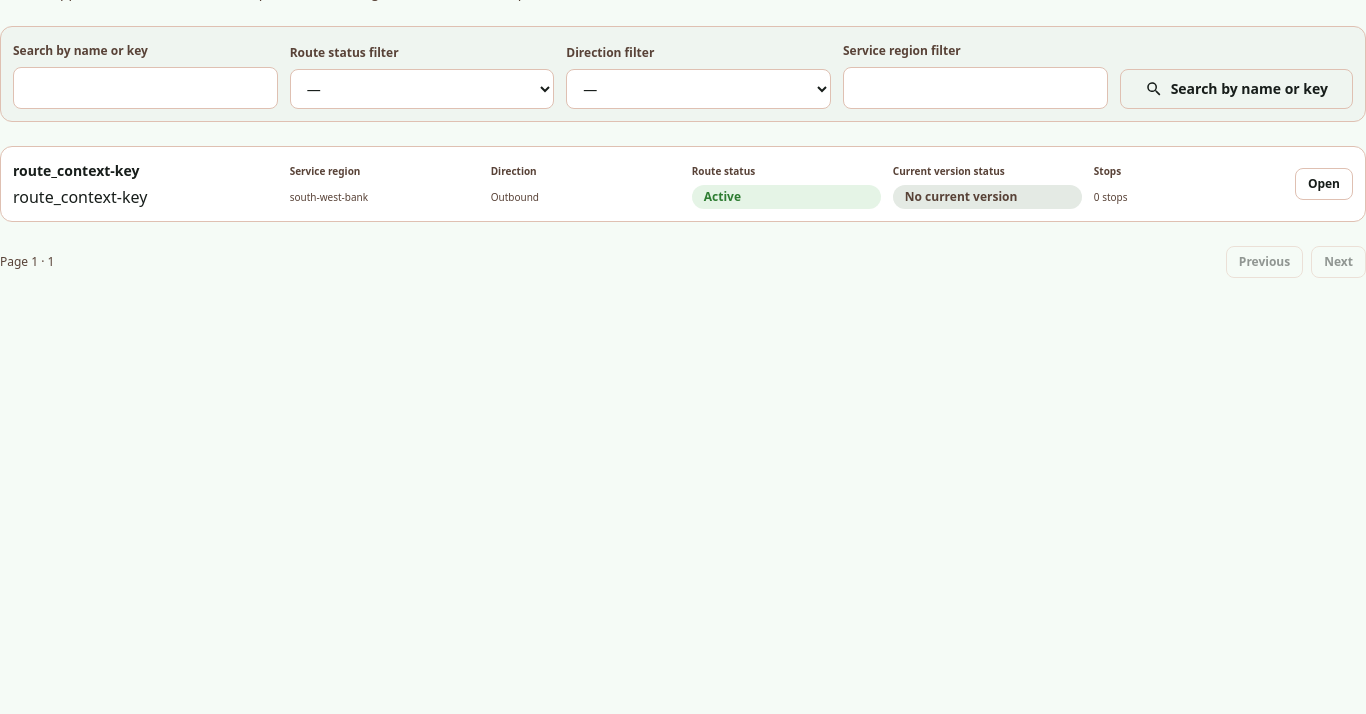
Test case: admin route management › draft save failure stays in the hand-selected version-editor feedback scope
Click the button "Open" at (1324, 184), box 1295,168 -> 1353,200
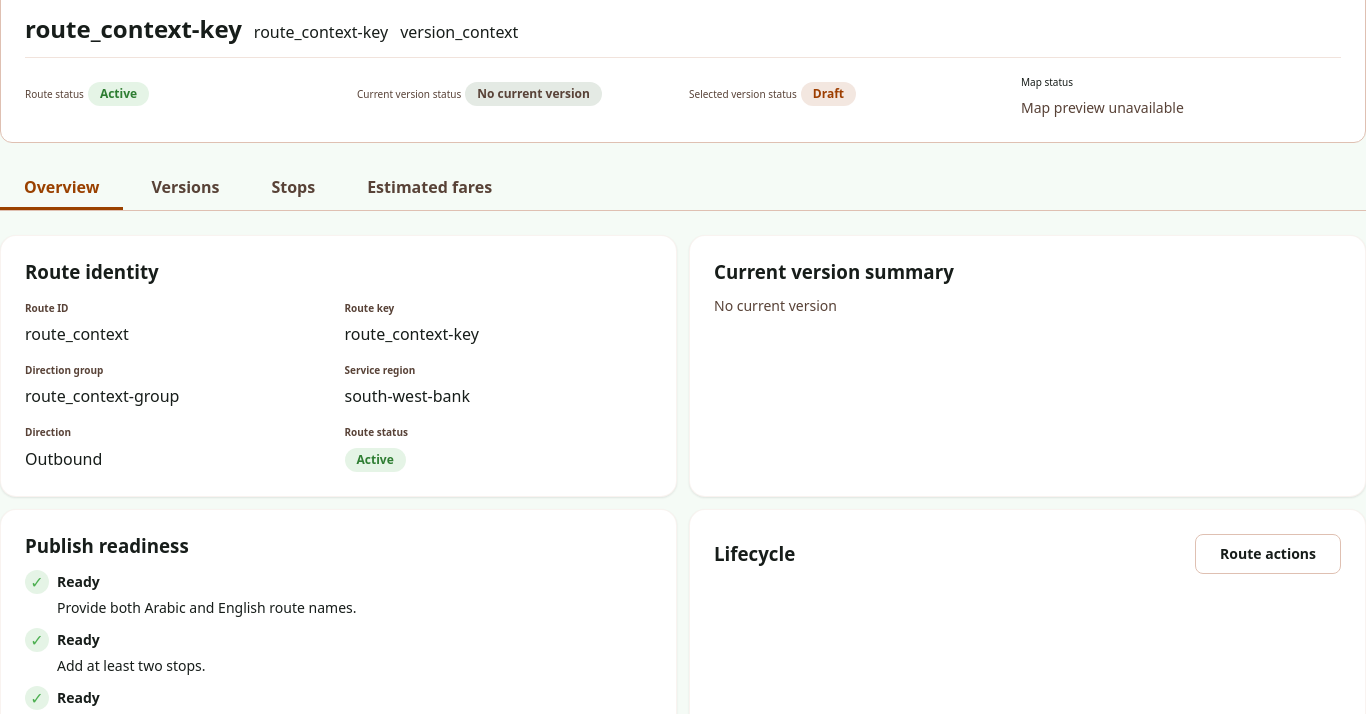
Click the tab "Versions" at (185, 188), box 127,167 -> 243,210
(page scrolled)
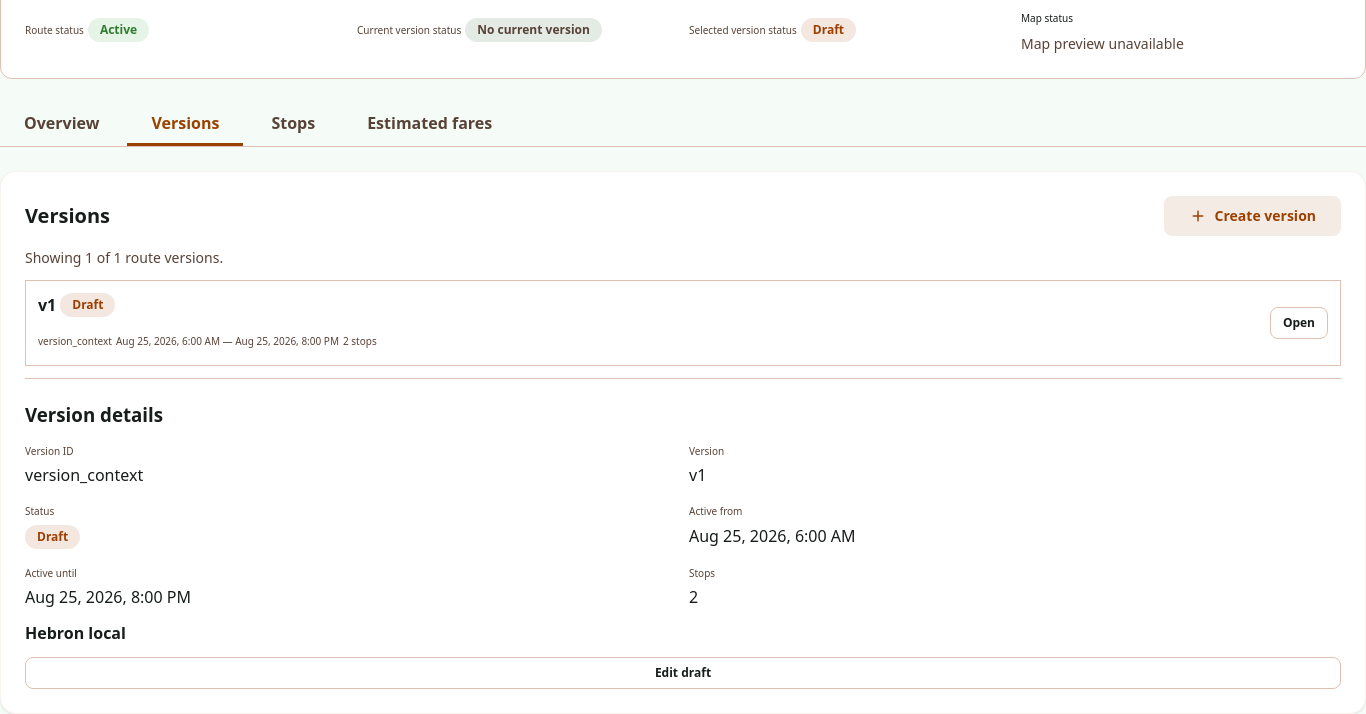
Click the button "Edit draft" at (683, 673), box 25,657 -> 1341,689
(page scrolled)
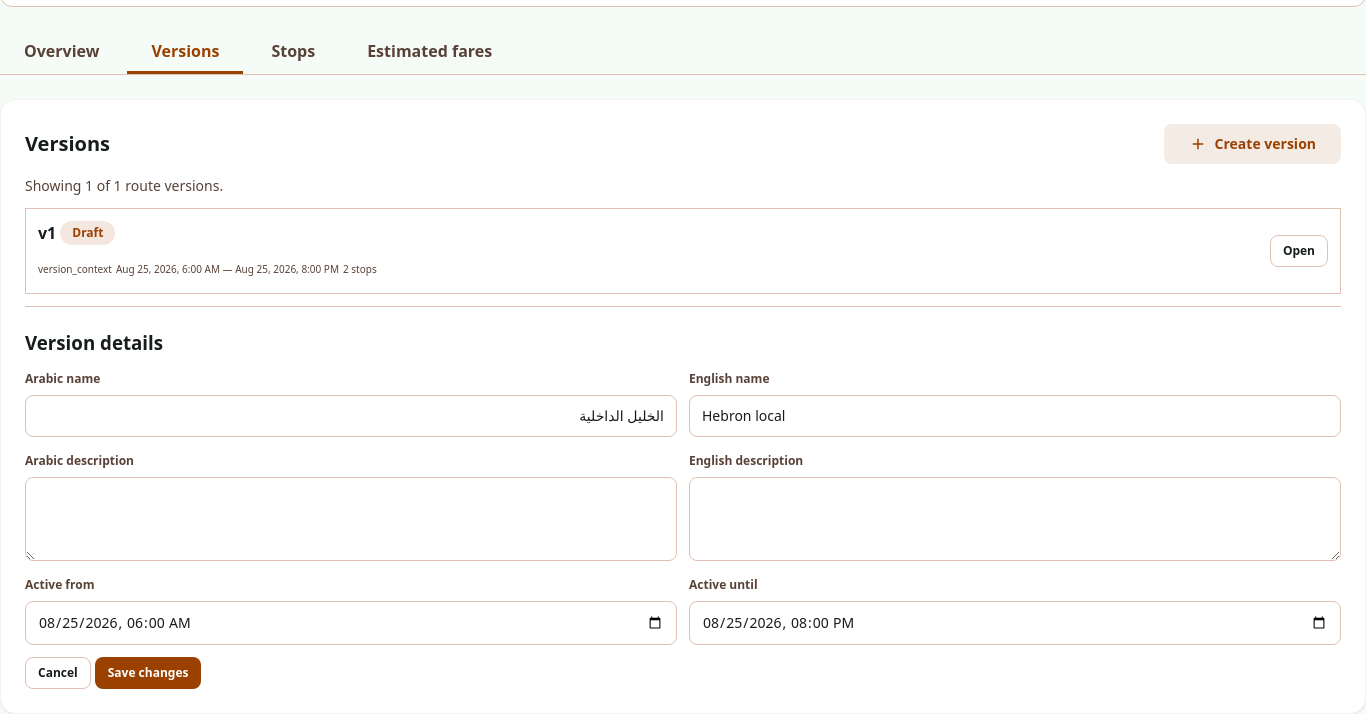
Submit the form, box 25,367 -> 1341,689
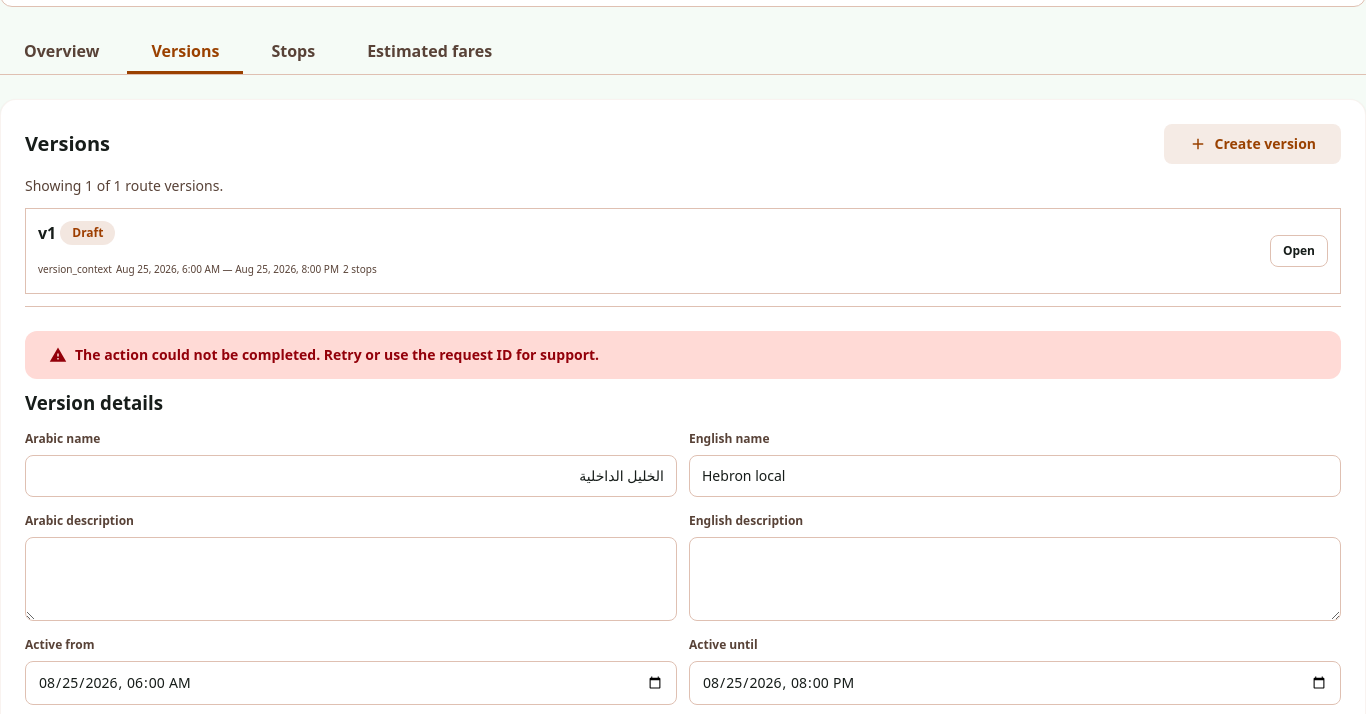
Check: the message with class "notice--error" reads "The action could not be completed. Retry or use the request ID for support.", box 75,345 -> 599,364
Check: the number of messages with class "notice--error" is 1, box 25,331 -> 1341,379
